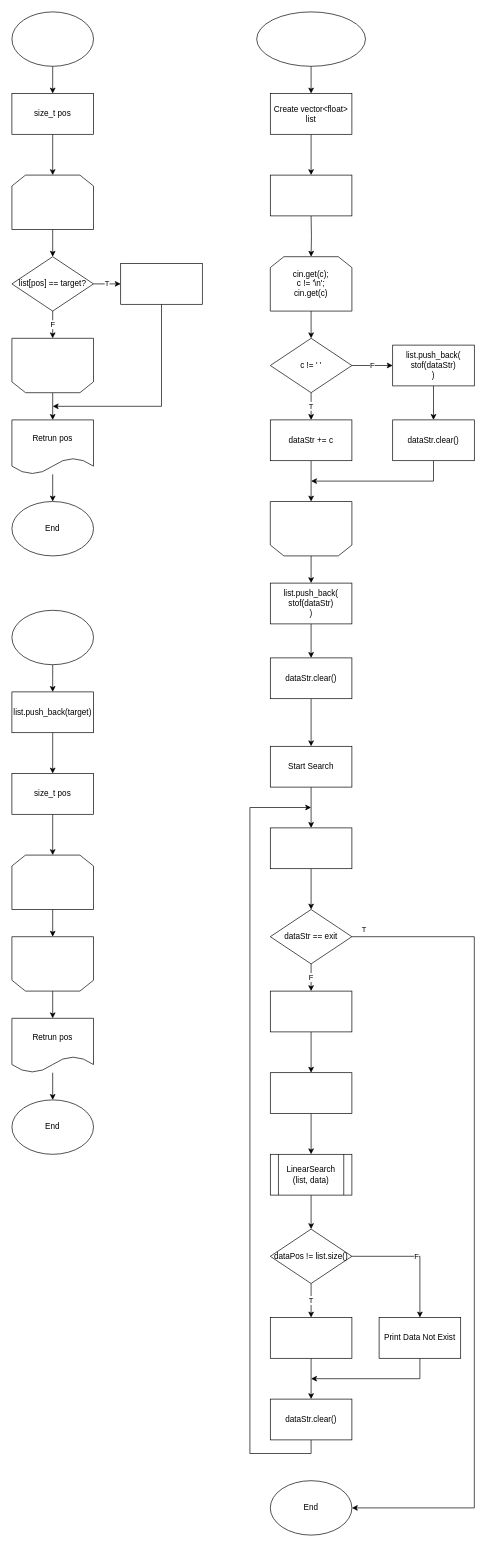
The diagram is 492 pixels wide and 1547 high, and some of its shapes have lost their labels. Here are the shapes that lost their labels. From the top down, the box of each, then its label:
(11, 11, 94, 66): LinearSearch (std::vector<float> list, float target)
(256, 11, 366, 66): FindDataByLinearSearch
(11, 174, 94, 230): pos = 0; pos < list.size(); ++pos
(270, 174, 352, 216): Create char c string dataStr
(120, 263, 202, 304): break;
(11, 610, 94, 665): LinearSearchAlter (std::vector<float> list, float target)
(270, 827, 352, 869): Input dataStr
(11, 854, 94, 910): pos = 0; list[pos] != target; ++pos
(270, 990, 352, 1032): data = stof(dataStr)
(270, 1072, 352, 1114): Create timer
(270, 1317, 352, 1358): Print Data Exist
